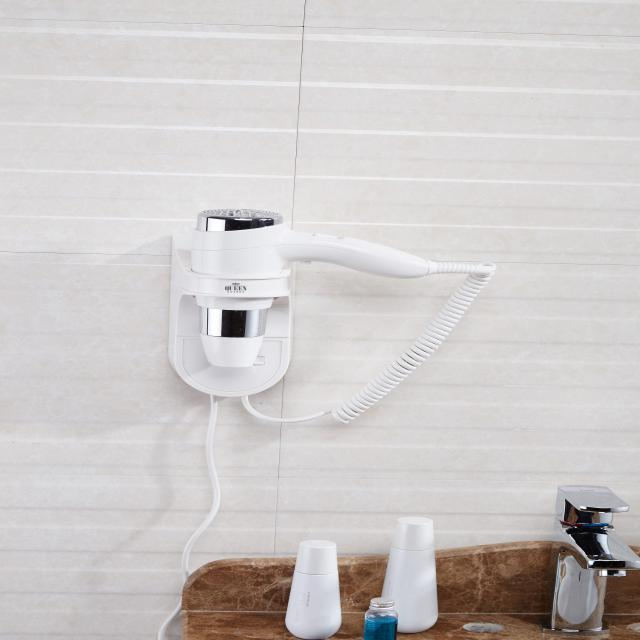dryer: (136, 186, 528, 444)
